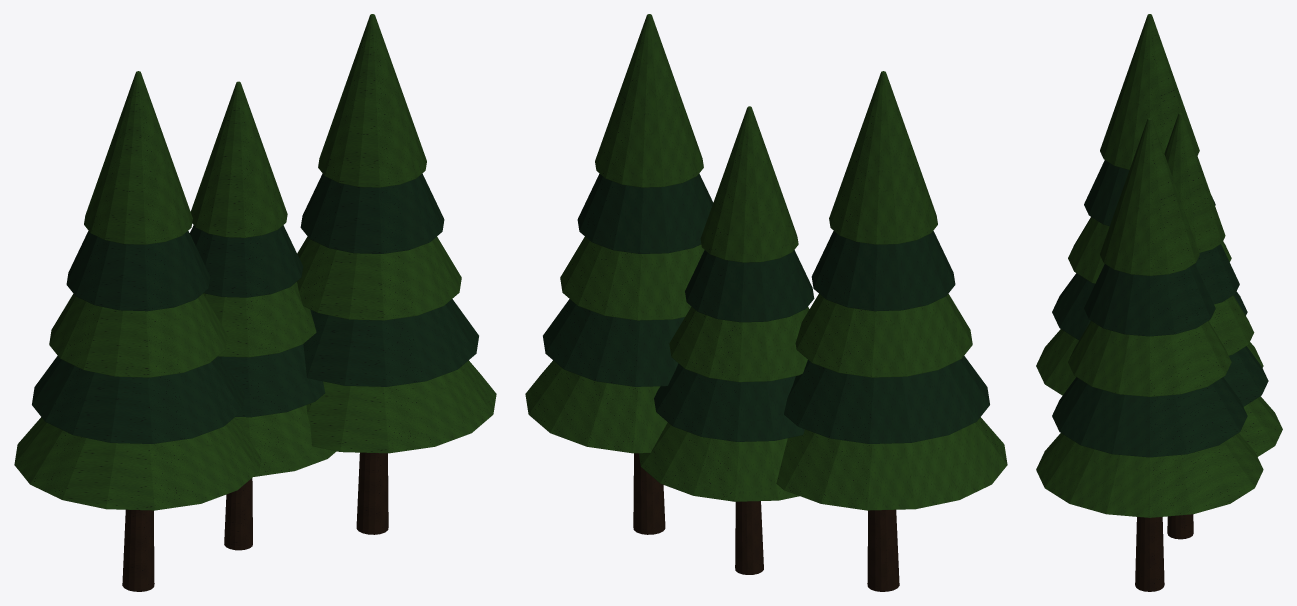
The model's file is PROP-F9037A353B38_lod0.glb.
3 renders of one model, left to right at view 1: azimuth 30°, elevation 25°; view 2: azimuth 150°, elevation 25°; view 3: azimuth 270°, elevation 25°, orthographic. The views are drawn at different scales.
Visible parts, largest first — view 1: layered_conifer_crown.004, layered_conifer_crown.005, trunk.002; view 2: layered_conifer_crown.004, layered_conifer_crown.005, trunk.002; view 3: layered_conifer_crown.004, layered_conifer_crown.005, trunk.002.
Part boxes in pixels (x1,y1,x2,y2): layered_conifer_crown.004: (14, 14, 496, 510); layered_conifer_crown.005: (32, 173, 478, 443); trunk.002: (122, 452, 388, 591); layered_conifer_crown.004: (525, 14, 1007, 510); layered_conifer_crown.005: (543, 173, 989, 443); trunk.002: (633, 453, 899, 591); layered_conifer_crown.004: (1036, 14, 1282, 517); layered_conifer_crown.005: (1052, 160, 1268, 457); trunk.002: (1135, 514, 1193, 591).
Size of the model in its own units: 7.7 by 8.39 by 4.02.
3 materials, 3 textured.
